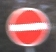No entry: (6, 6, 51, 47)
